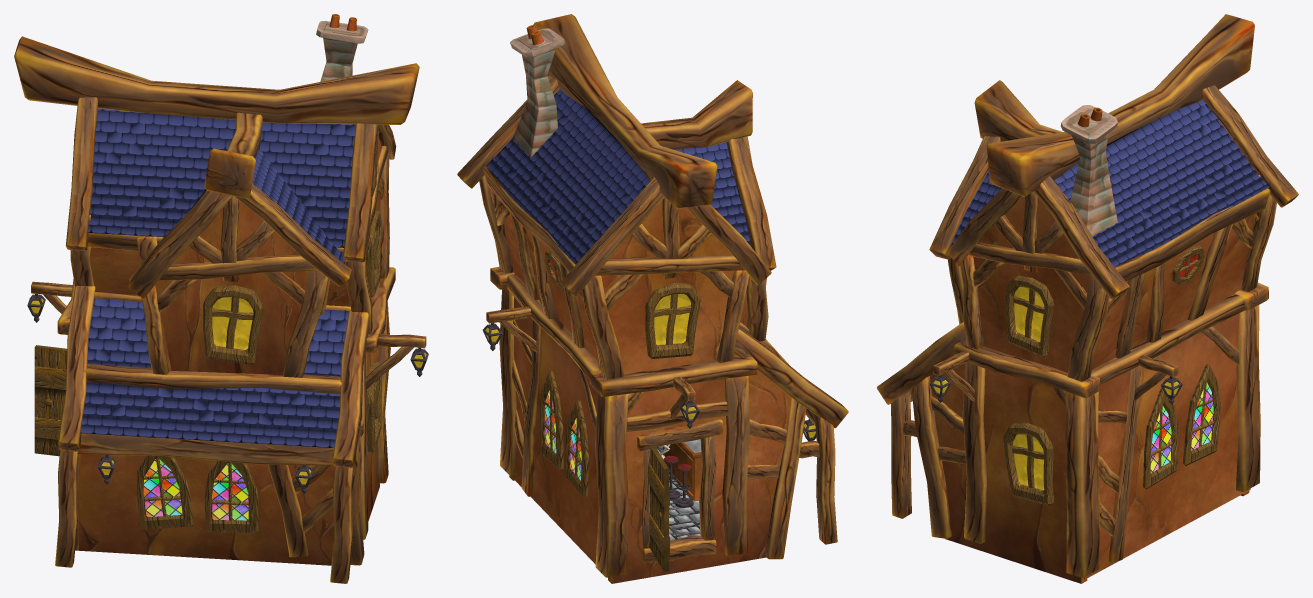
The model's file is Tavern.glb.
3 renders of one model, left to right at view 1: azimuth 30°, elevation 25°; view 2: azimuth 150°, elevation 25°; view 3: azimuth 270°, elevation 25°, orthographic. The views are drawn at different scales.
Visible parts, largest first — view 1: Taverne+0; view 2: Taverne+0, Interieur; view 3: Taverne+0.
Boxes of the visible parts, bbox=[...] form: Taverne+0: bbox=[14, 14, 428, 583]; Taverne+0: bbox=[457, 14, 848, 583]; Interieur: bbox=[660, 439, 701, 507]; Taverne+0: bbox=[877, 14, 1298, 583].
Bounding box in the file's own units: 2.1 × 2.58 × 2.14.
16 materials, 13 textured.
